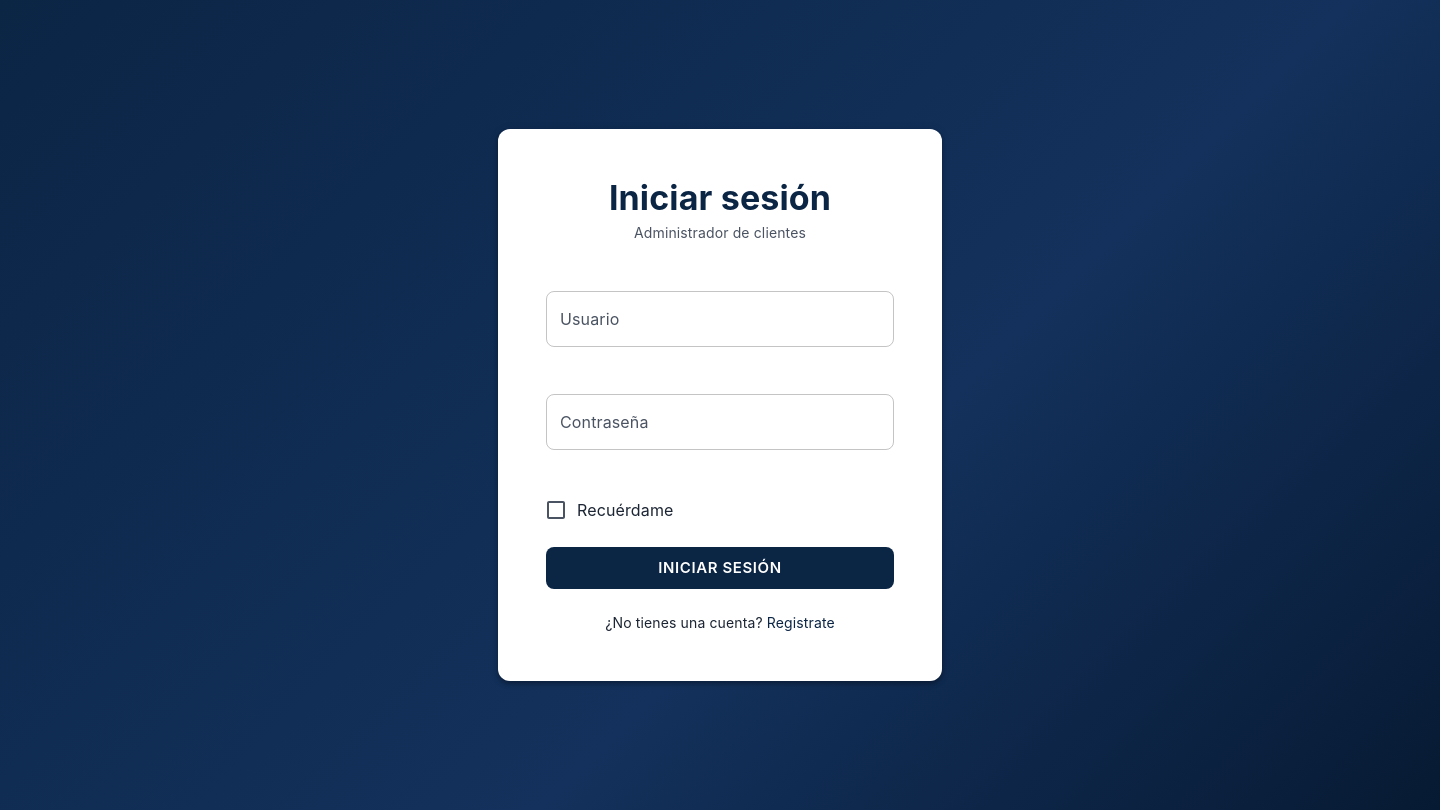
Test: LoginPage › blocks submission and shows required messages when fields are empty
Click the button with test id "login-submit" at (720, 568), box [546,547,894,589]
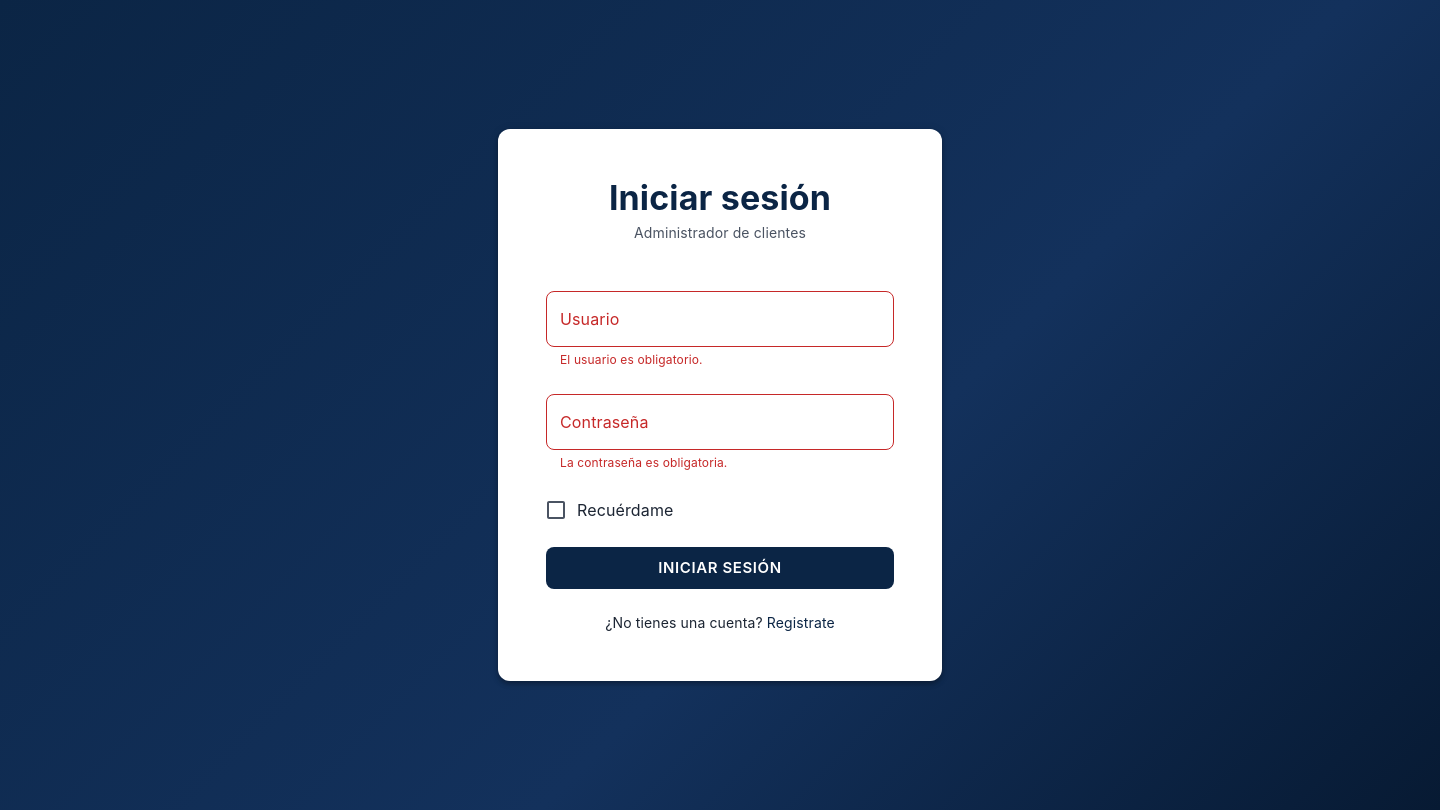
Result: the text "El usuario es obligatorio." is shown at [560,352,703,367]
Result: the text "La contraseña es obligatoria." is shown at [560,455,728,470]
